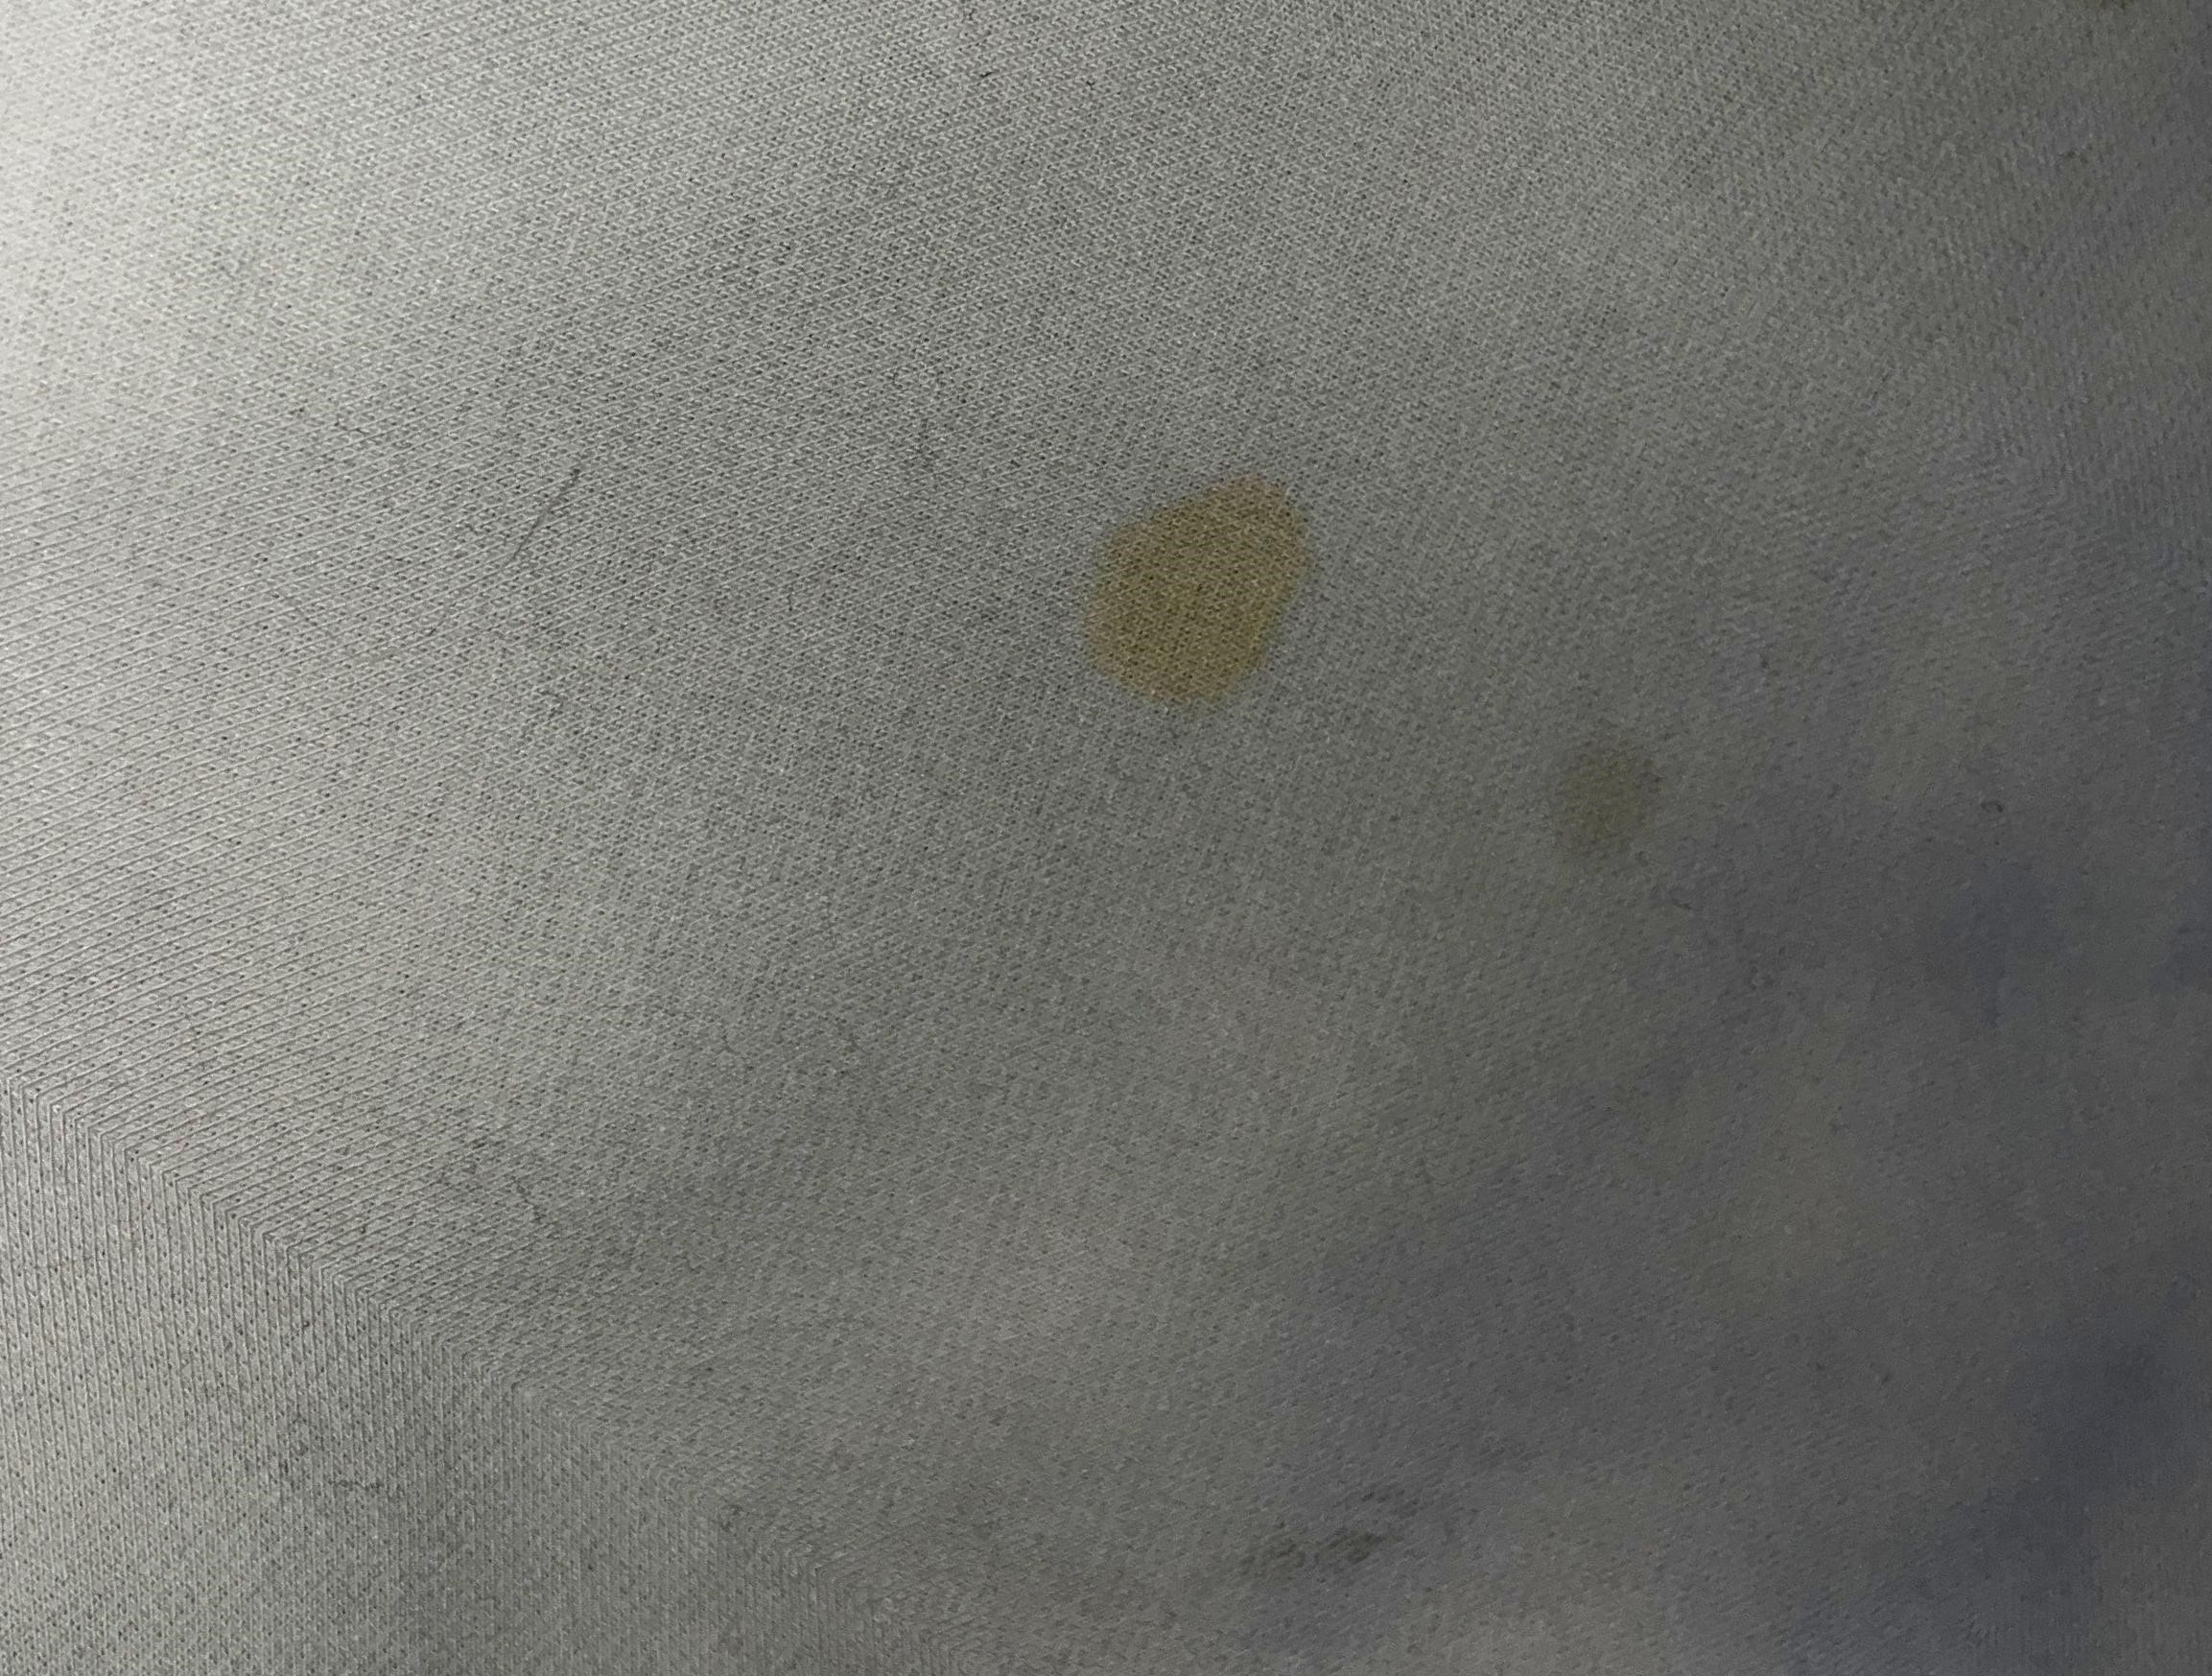stain: (1072, 465, 1359, 745), (1524, 713, 1691, 901)
